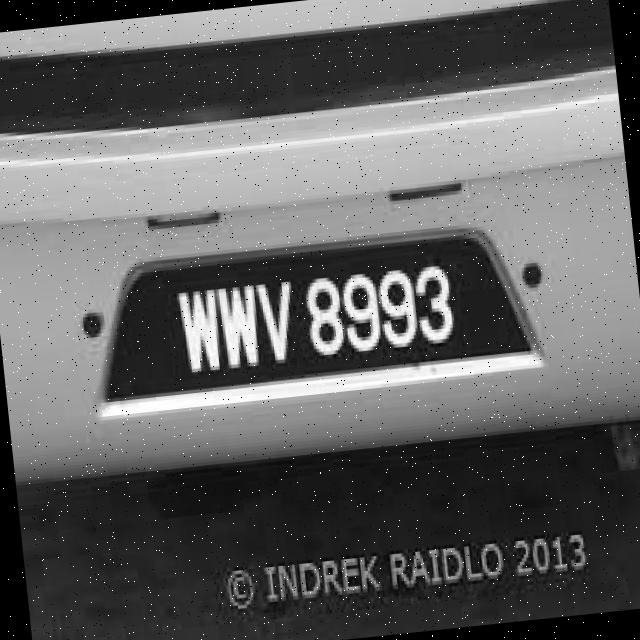License_Plate: (133, 229, 504, 404)
